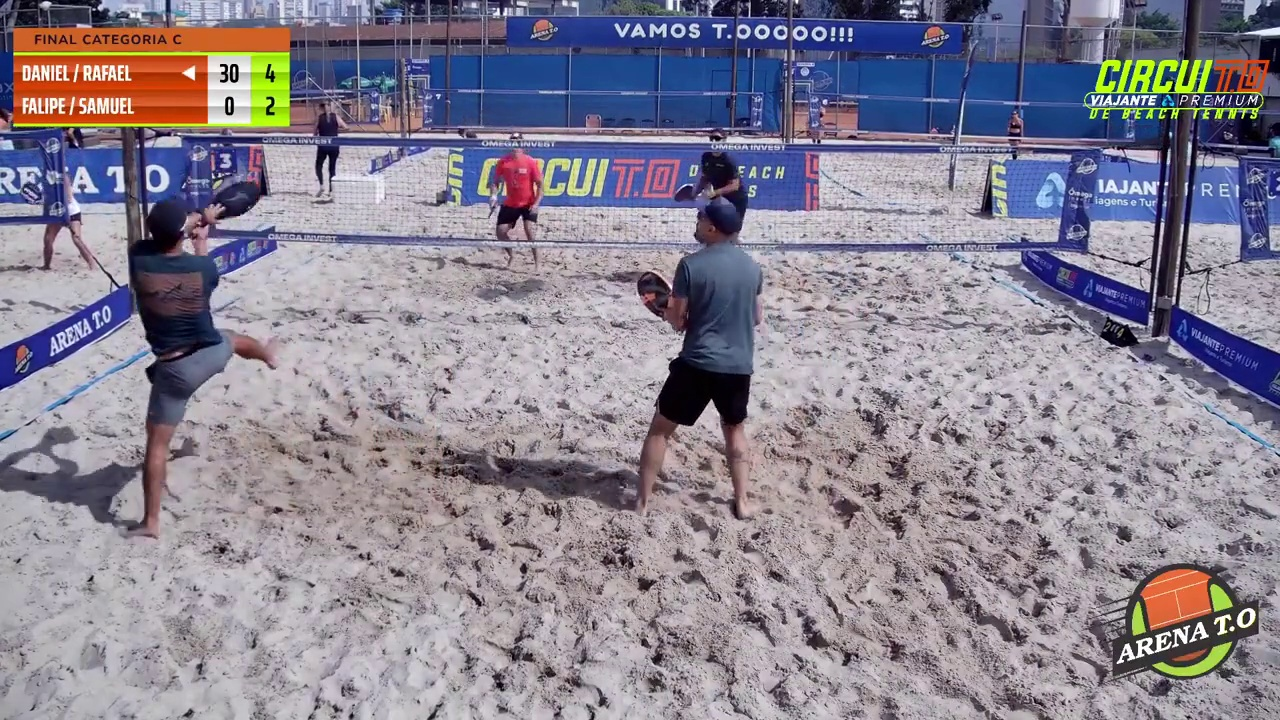court_line: (641, 0, 797, 358), (547, 0, 672, 432), (553, 0, 667, 305)
